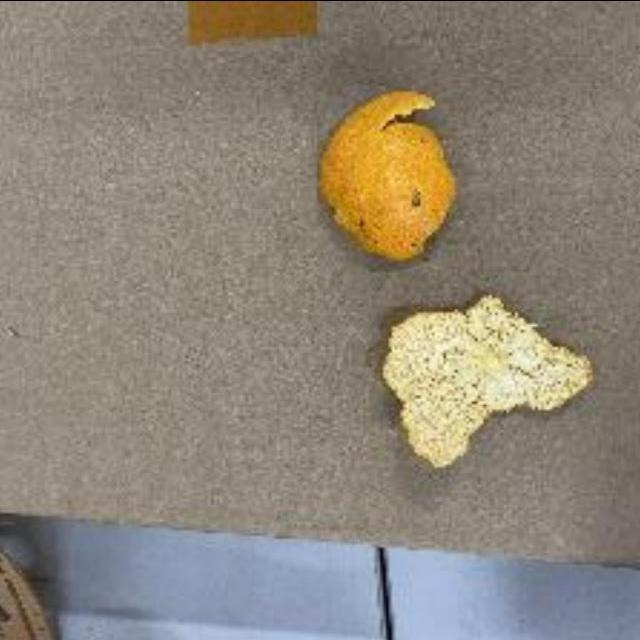orange peel: (371, 287, 593, 479), (316, 76, 450, 268)
